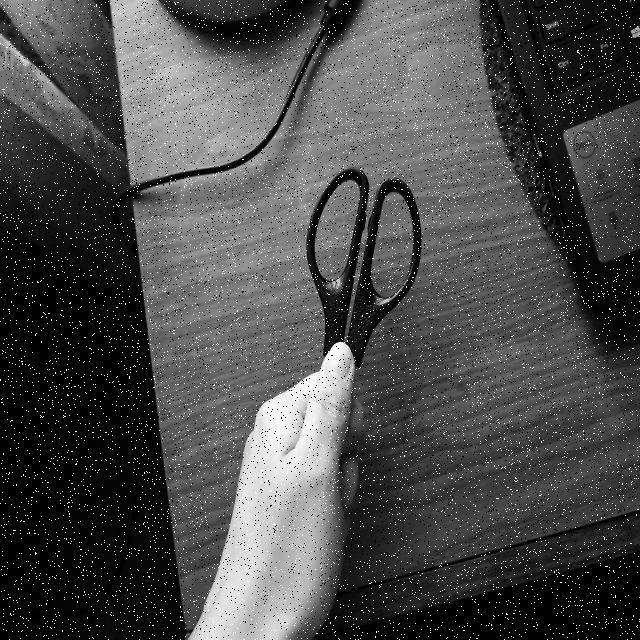scissors: (304, 161, 424, 558)
